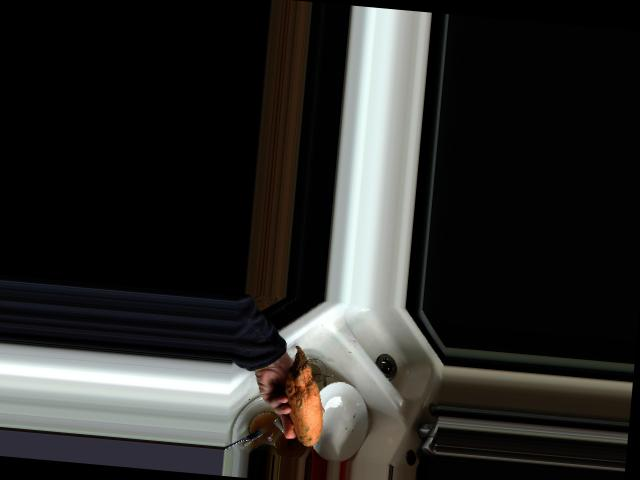sweet_potato: (280, 344, 332, 447)
